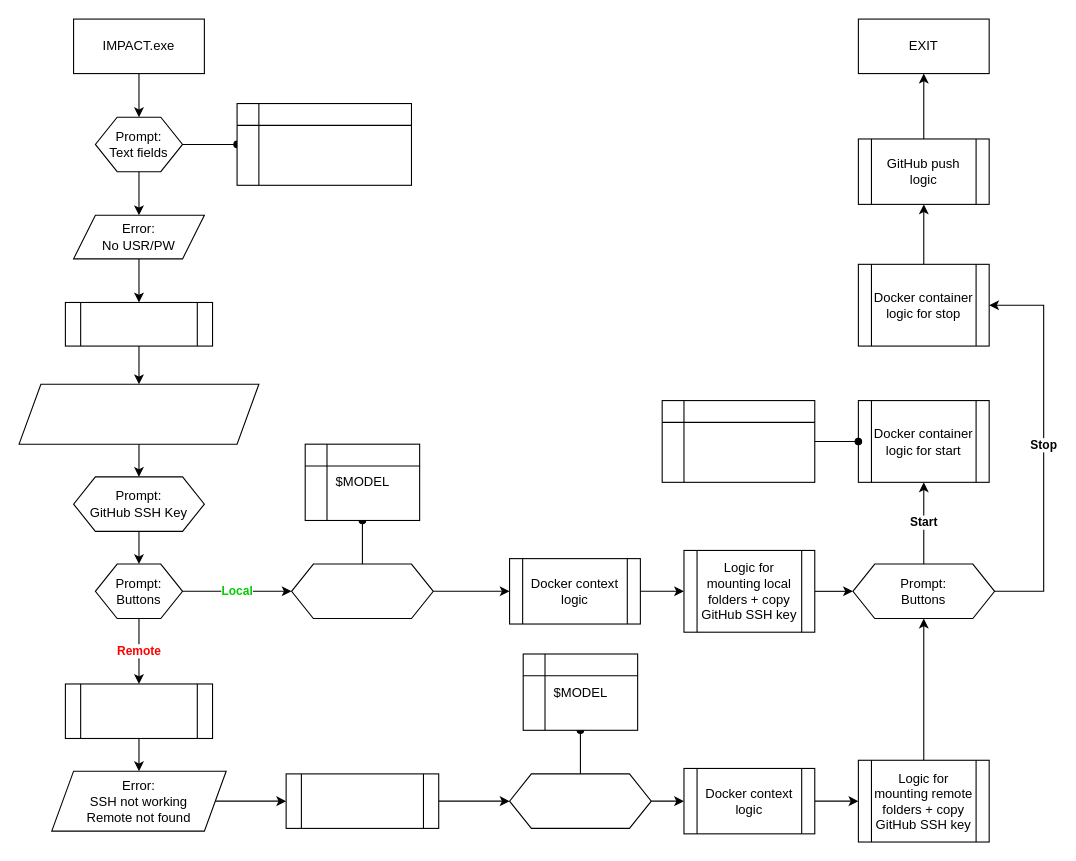
Some shapes in this 1076 by 861 pixel diagram are drawn without their labels. The centre of each missing label's shape, as x and y in pixels:
$USERNAME $MODEL: the point at 738,440
$USERNAME $PASSWORD: the point at 323,143
Error: SSH not working Key could not be generated: the point at 138,413
Establish SSH connection: the point at 138,710
GitHub SSH logic: the point at 138,323
Prompt: Folder selection: the point at 361,591
Prompt: Repo selection: the point at 579,800
Read model folder for repo list: the point at 362,800
